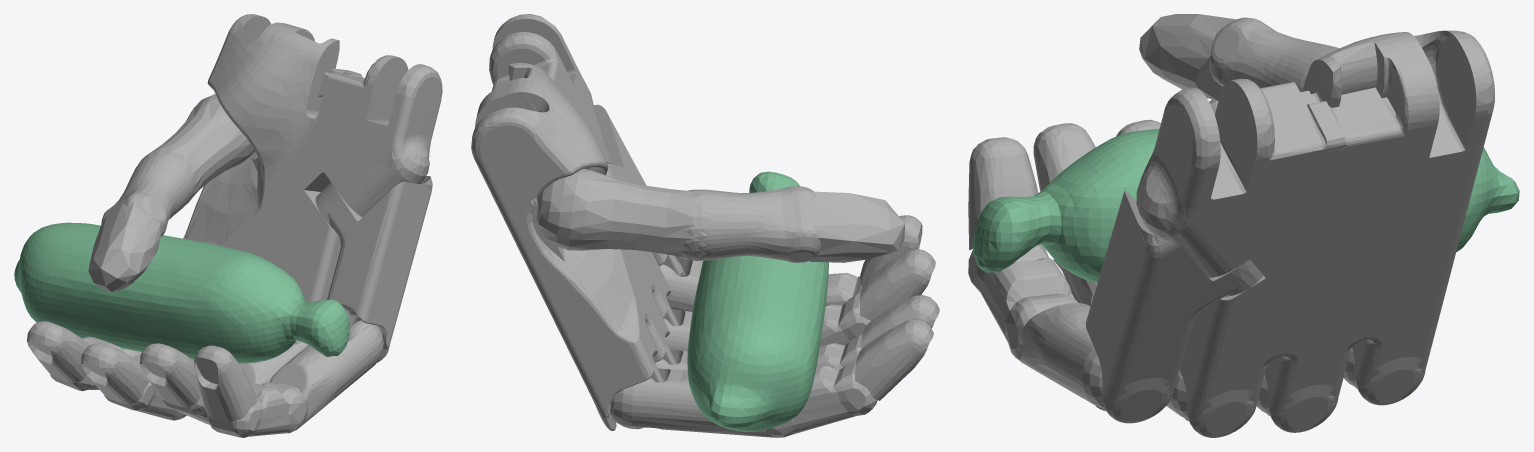
3 renders of one model, left to right at view 1: azimuth 30°, elevation 25°; view 2: azimuth 150°, elevation 25°; view 3: azimuth 270°, elevation 25°, orthographic. The views are drawn at different scales.
Parts seen in each view (by area): view 1: world; view 2: world; view 3: world.
Boxes of the visible parts, x1,y1,x2,y2 form: world: [14, 14, 442, 437]; world: [471, 14, 939, 437]; world: [968, 14, 1519, 437].
Bounding box in the file's own units: 1.05 × 0.7528 × 0.8647.
